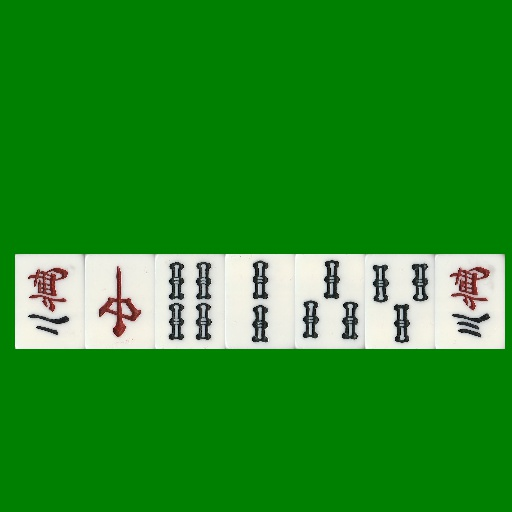2m: (15, 254, 85, 349)
2s: (225, 254, 295, 349)
3m: (435, 254, 505, 349)
3s: (295, 254, 365, 349), (365, 254, 435, 349)
4s: (155, 254, 225, 349)
tyun: (85, 254, 155, 349)
